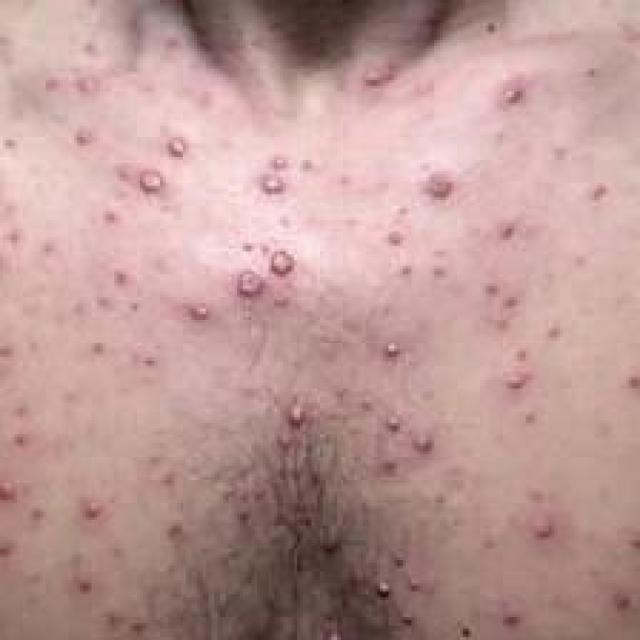others: (20, 21, 639, 639)
